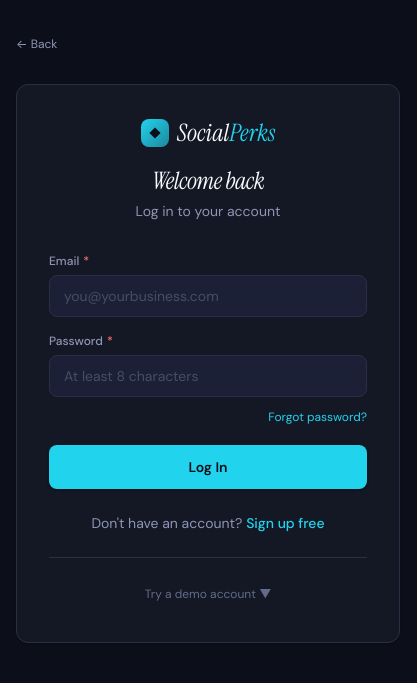
Test: AuthForm › shows validation error when email is empty
What coordinates should you click on to do the following:
click the button "Log In"
I would click on:
 (208, 466)
Its box is [49,444,367,488].
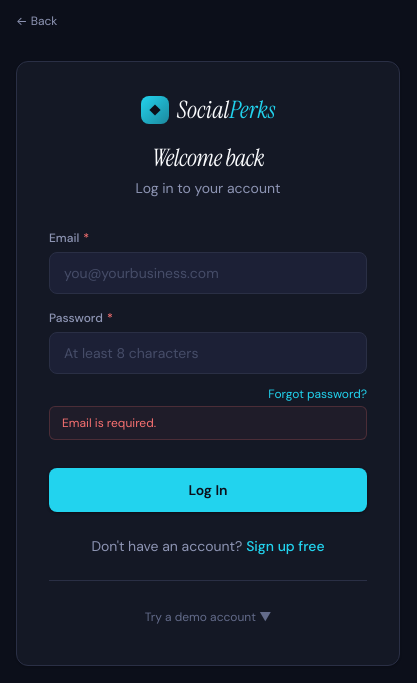
Expected: the text "Email is required." is shown, [49,406,367,440]
